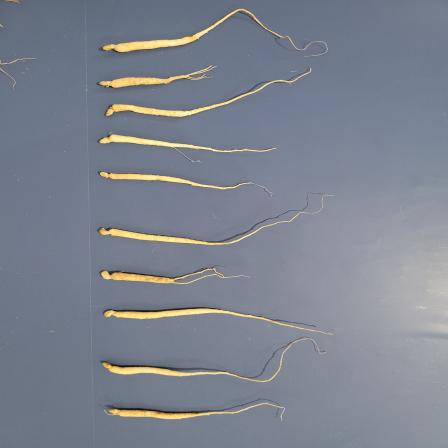Ginseng: (92, 194, 352, 247), (96, 6, 330, 57), (100, 63, 314, 118), (96, 338, 327, 382), (100, 306, 334, 336), (91, 132, 278, 164), (93, 170, 277, 196), (102, 402, 288, 424), (94, 62, 219, 90), (96, 267, 252, 287)
head: (100, 40, 122, 54), (98, 226, 119, 238), (100, 360, 118, 374), (98, 78, 120, 88), (103, 104, 121, 116), (100, 269, 118, 280), (97, 171, 116, 181), (106, 408, 127, 417), (104, 308, 120, 318)
